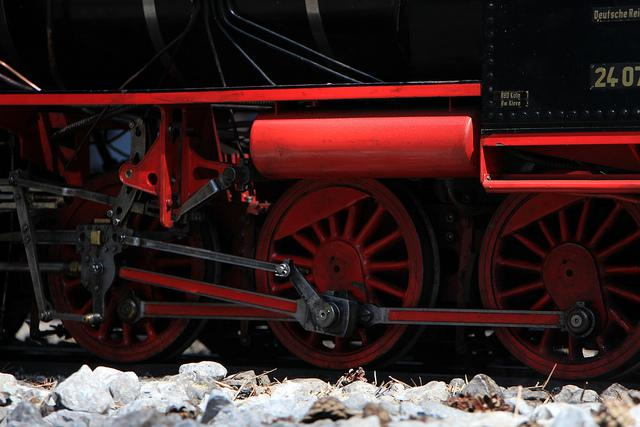Train: (1, 2, 640, 392)
